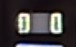COMP: (11, 8, 68, 38)
GAP: (16, 23, 63, 47)
